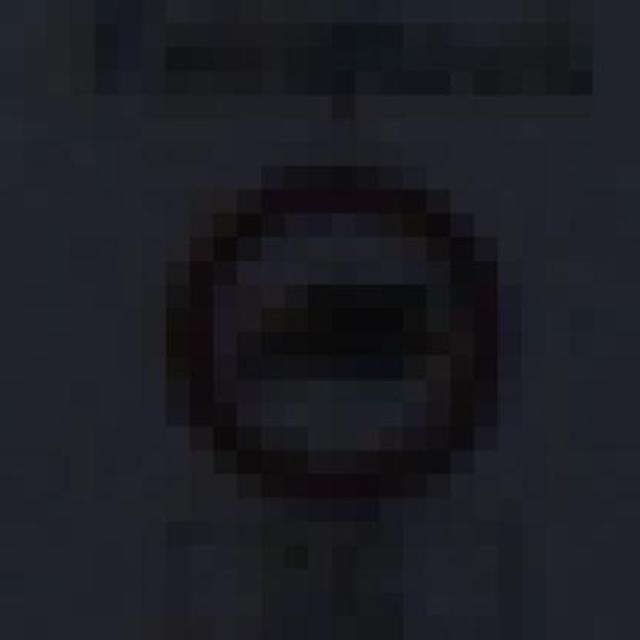Truck traffic is prohibited: (82, 131, 556, 534)
